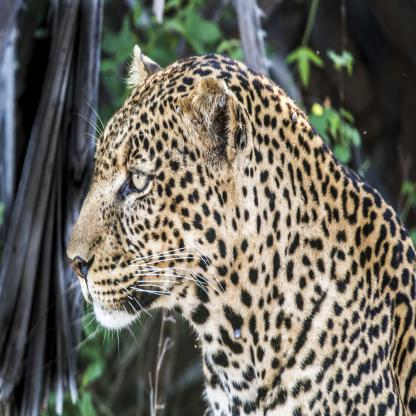leopard: (58, 52, 249, 338)
